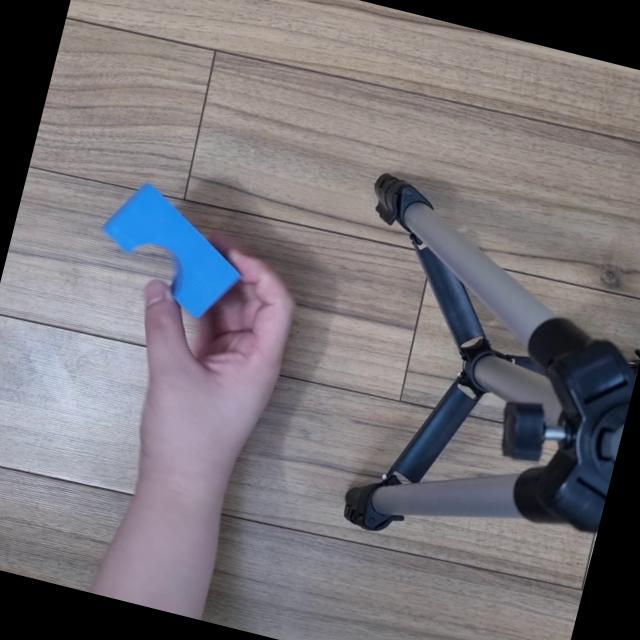block: (85, 170, 258, 336)
hand: (107, 202, 340, 492)
